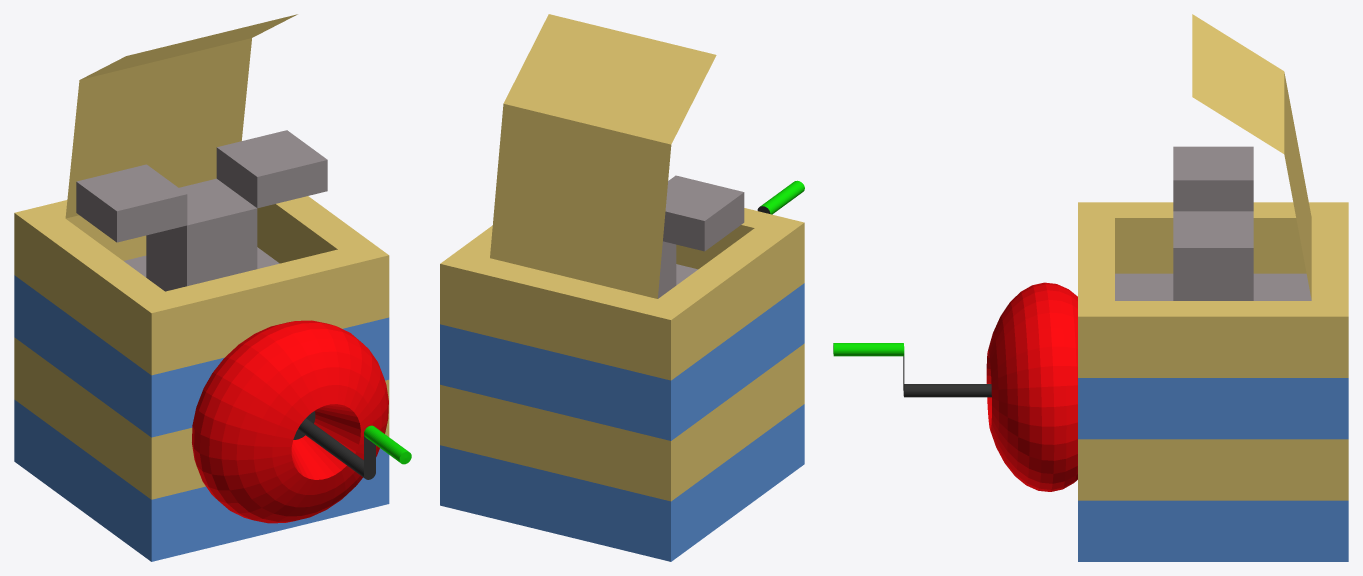
The model's file is CaixaPuzzle.fbx.
The picture shows the model from 3 angles, left to right: view 1: azimuth 30°, elevation 25°; view 2: azimuth 150°, elevation 25°; view 3: azimuth 270°, elevation 25°; orthographic projection. The views are drawn at different scales.
Visible parts, largest first — view 1: Cube; view 2: Cube; view 3: Cube.
Part boxes in pixels (x1,y1,x2,y2): Cube: (14,14,411,561); Cube: (440,14,804,561); Cube: (833,14,1348,561).
Bounding box in the file's own units: 43.26 × 79.24 × 82.41.
